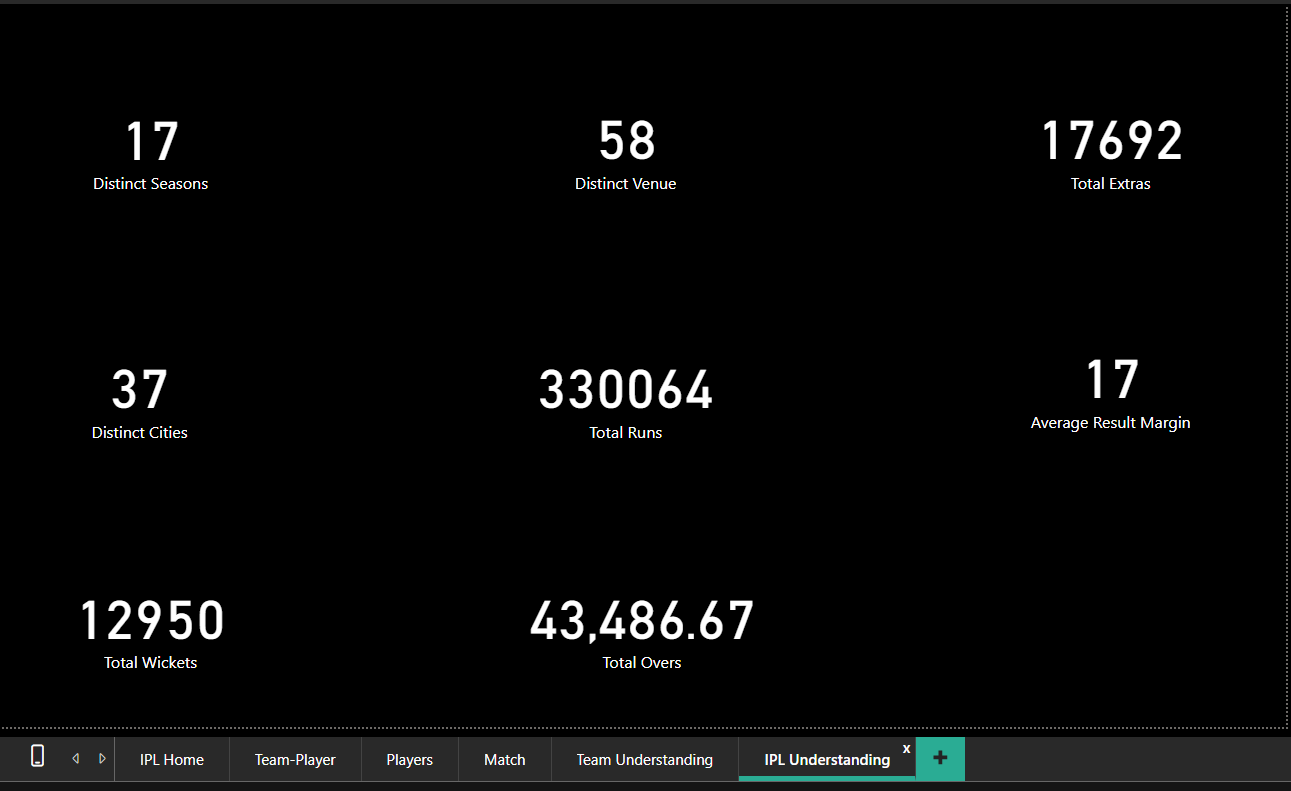

Layout of this report page (visuals, bound fields, positions):
{"tool":"powerbi","page":{"name":"IPL Understanding ","canvas":[1280,720],"ordinal":5},"visuals":[{"type":"card","fields":{"Values":["matches.Distinct Seasons"]},"box":[10,0,280,280],"z":0},{"type":"card","fields":{"Values":["matches.Distinct Cities"]},"box":[10,290,258,194],"z":1000},{"type":"card","fields":{"Values":["matches.Distinct Venue"]},"box":[494,42,258,194],"z":2000},{"type":"card","fields":{"Values":["deliveries.Total Runs"]},"box":[494,290,258,194],"z":3000},{"type":"card","fields":{"Values":["deliveries.Total Wickets"]},"box":[10,512,280,208],"z":4000},{"type":"card","fields":{"Values":["deliveries.Total Overs"]},"box":[510,512,258,208],"z":5000},{"type":"card","fields":{"Values":["deliveries.Total Extras"]},"box":[976,42,258,194],"z":6000},{"type":"card","fields":{"Values":["matches.Average Result Margin"]},"box":[976,280,258,194],"z":7000}]}

Visuals, with their boxes on the page's 1280x720 design canvas (x1, y1, x2, y2). These are canvas units, not pixel positions in the 1291x791 screenshot, which may show the page scaled, cropped or inside an application window:
card - matches.Distinct Seasons: box=[10, 0, 290, 280]
card - matches.Distinct Cities: box=[10, 290, 268, 484]
card - matches.Distinct Venue: box=[494, 42, 752, 236]
card - deliveries.Total Runs: box=[494, 290, 752, 484]
card - deliveries.Total Wickets: box=[10, 512, 290, 720]
card - deliveries.Total Overs: box=[510, 512, 768, 720]
card - deliveries.Total Extras: box=[976, 42, 1234, 236]
card - matches.Average Result Margin: box=[976, 280, 1234, 474]
